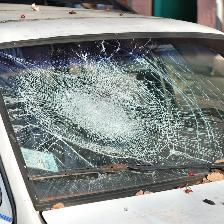broken_glass: (1, 18, 224, 200)
